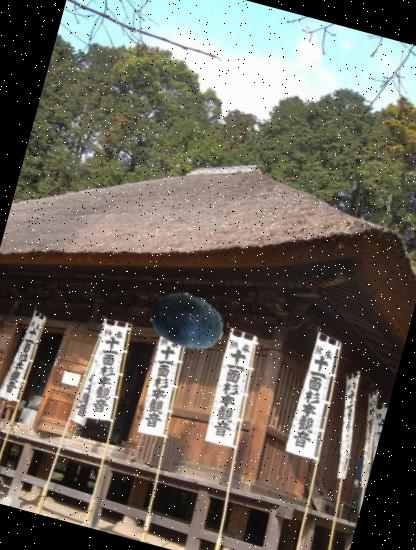Blueberry: (146, 278, 233, 366)
